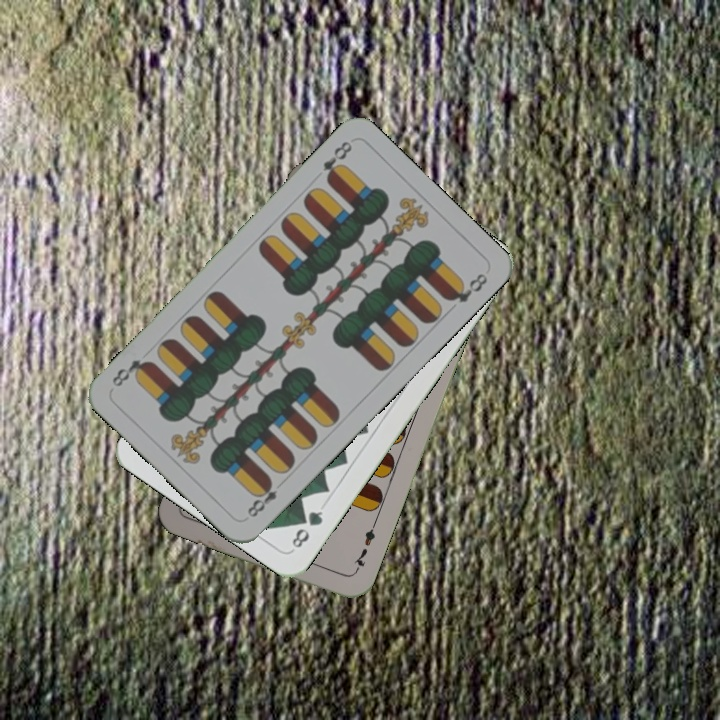E7: (349, 519, 379, 576)
E8: (319, 137, 355, 185), (243, 475, 280, 520)
G8: (287, 507, 326, 551)
